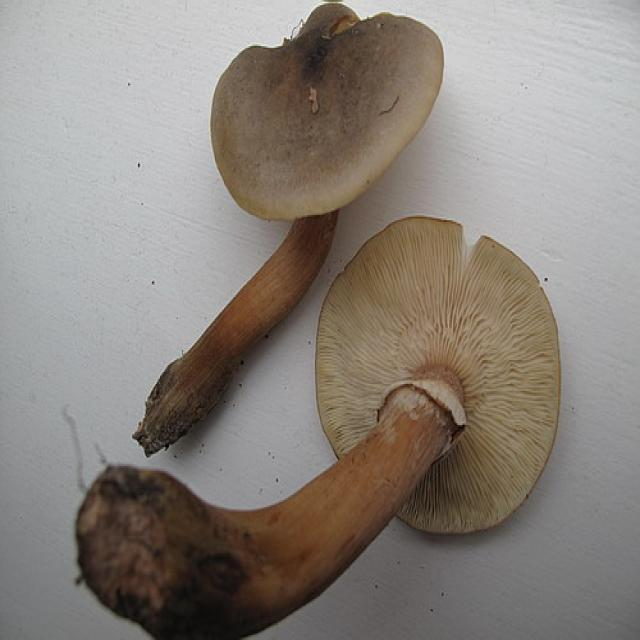Armillaria mellea: (72, 219, 563, 639), (139, 5, 444, 456)
